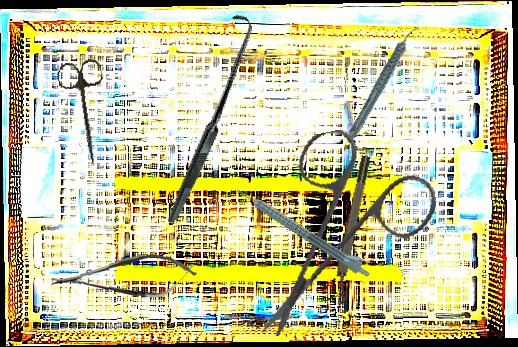Fixation Ring: (325, 154, 380, 306)
Handpiece: (233, 179, 376, 281), (325, 25, 441, 145)
Hook Surgical: (98, 11, 316, 223)
Iris Scissors: (224, 112, 457, 340), (55, 57, 118, 169)
Micro Scissor: (49, 251, 198, 302)
